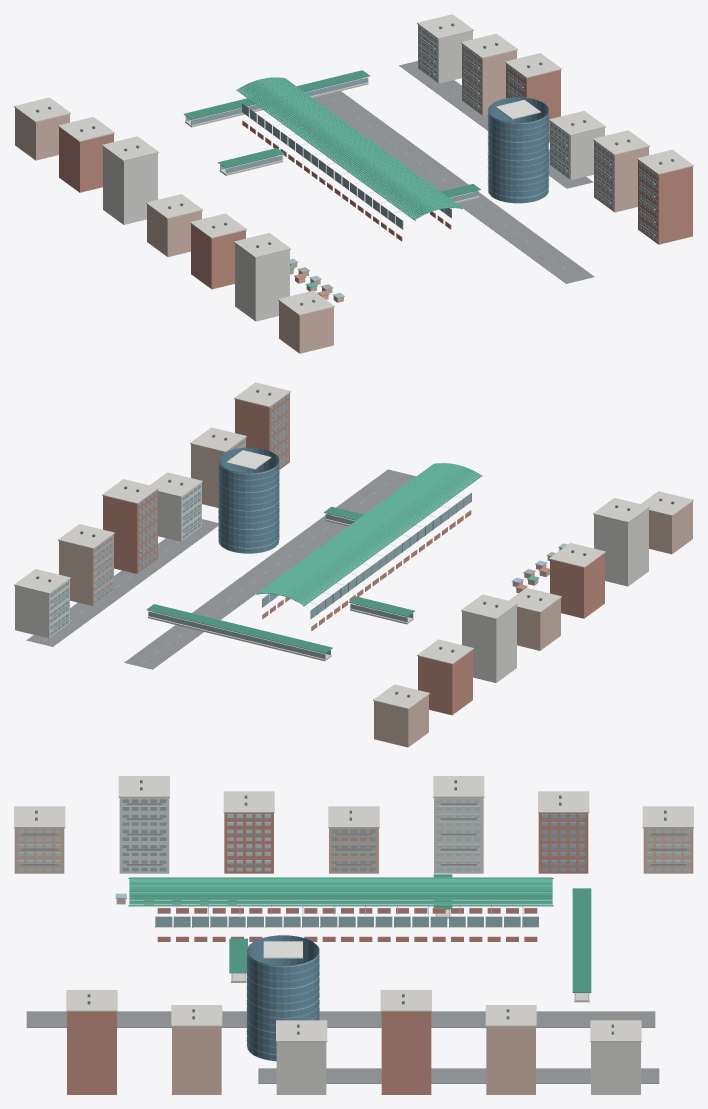
3 renders of one model, top to bottom at view 1: azimuth 30°, elevation 25°; view 2: azimuth 150°, elevation 25°; view 3: azimuth 270°, elevation 25°, orthographic. The views are drawn at different scales.
Visible parts, largest first — view 1: Station 5 photo-informed architecture and surroundings; view 2: Station 5 photo-informed architecture and surroundings; view 3: Station 5 photo-informed architecture and surroundings.
Part boxes in pixels (x1,y1,x2,y2): Station 5 photo-informed architecture and surroundings: (14, 14, 693, 353); Station 5 photo-informed architecture and surroundings: (14, 382, 693, 747); Station 5 photo-informed architecture and surroundings: (14, 776, 693, 1094).
Bounding box in the file's own units: 219 × 40.74 × 260.
